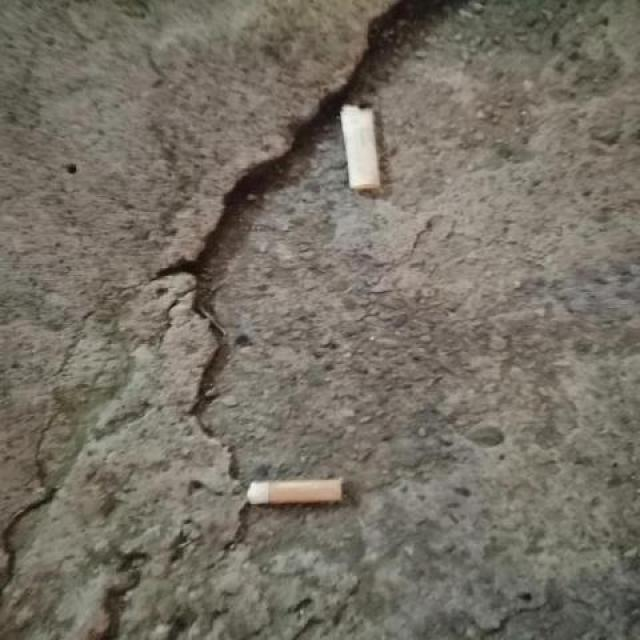non-organic waste: (334, 99, 386, 201), (239, 471, 348, 509)
